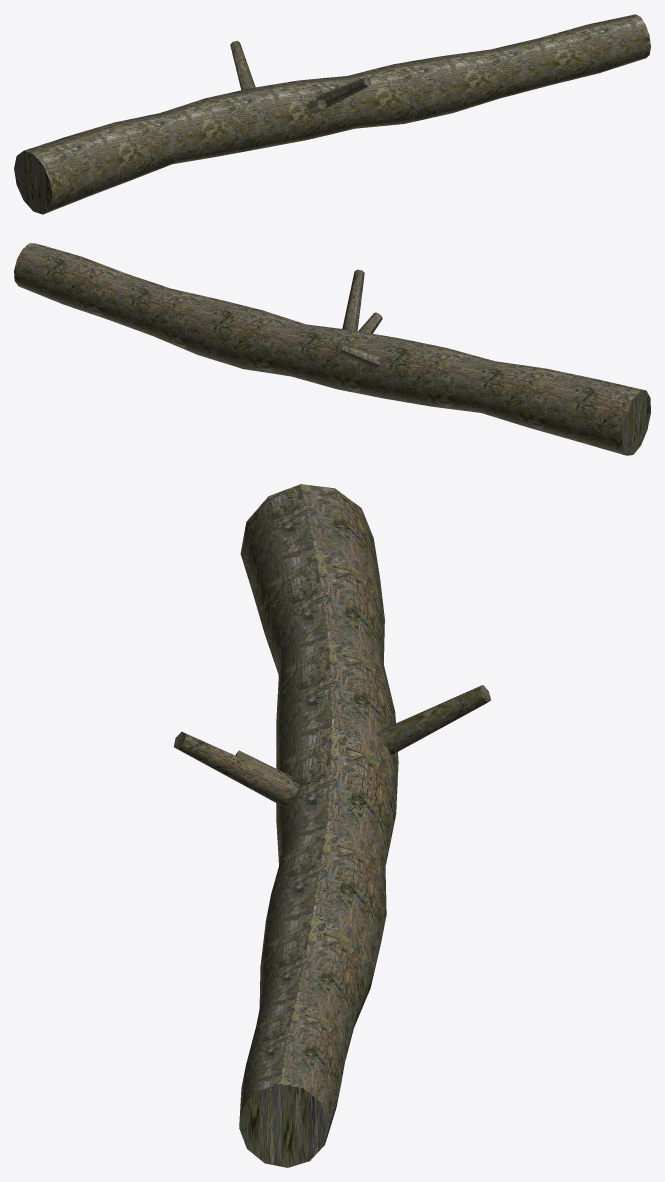
Rendered from fallen_log.glb.
The picture shows the model from 3 angles, top to bottom: view 1: azimuth 30°, elevation 25°; view 2: azimuth 150°, elevation 25°; view 3: azimuth 270°, elevation 25°; orthographic projection. The views are drawn at different scales.
Visible parts, largest first — view 1: fallen_log; view 2: fallen_log; view 3: fallen_log.
Boxes of the visible parts, <box> form: fallen_log: <box>14,14,650,214</box>; fallen_log: <box>14,243,650,455</box>; fallen_log: <box>174,484,490,1167</box>.
Bounding box in the file's own units: 5.54 × 0.7565 × 1.26.
Materials: 1 (1 with a texture image).
